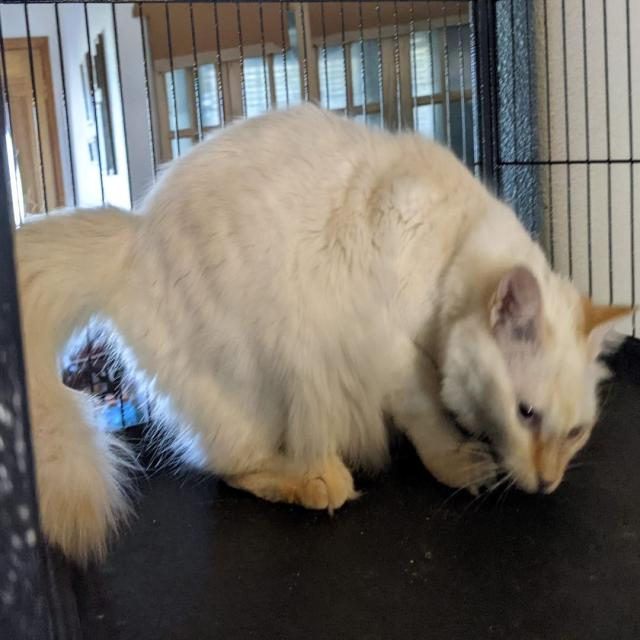maine_coon_cat: (441, 247, 640, 511)
